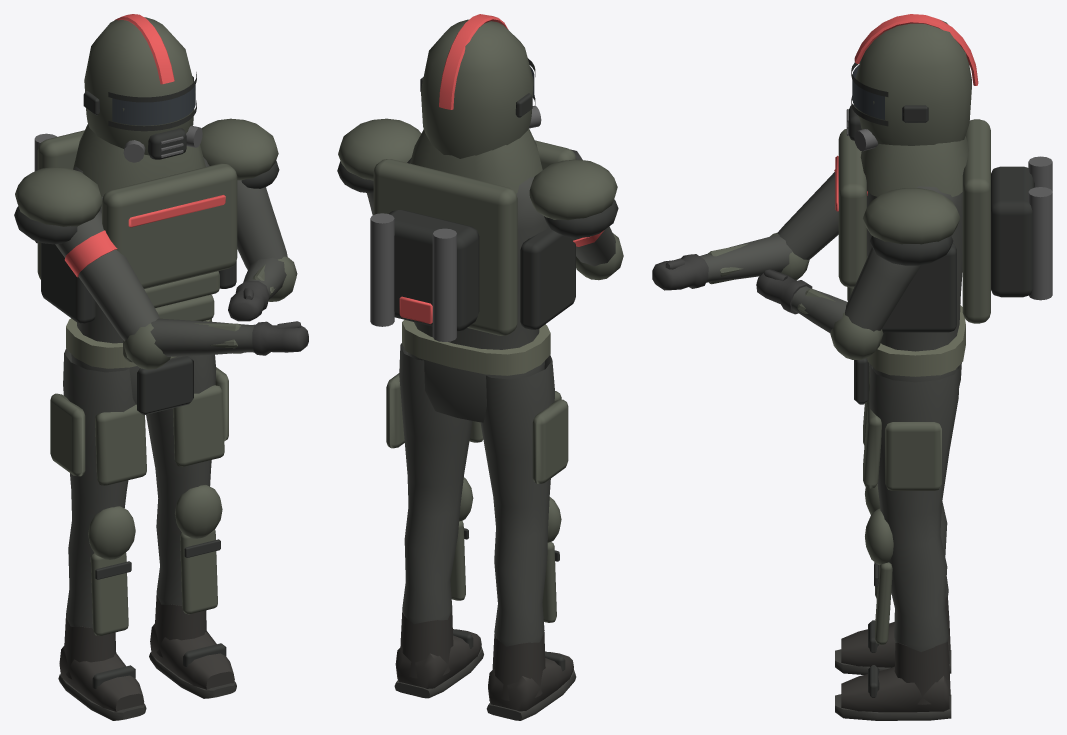
The model's file is heavy.glb.
3 renders of one model, left to right at view 1: azimuth 30°, elevation 25°; view 2: azimuth 150°, elevation 25°; view 3: azimuth 270°, elevation 25°, orthographic.
Parts seen in each view (by area): view 1: body, legL, legR; view 2: body, legL, legR; view 3: body, legR, legL.
Boxes of the visible parts, box(x1,y1,x2,y2) form: body: box(14, 14, 308, 415); legL: box(50, 348, 146, 720); legR: box(146, 354, 236, 698); body: box(337, 14, 623, 422); legL: box(480, 355, 576, 720); legR: box(386, 343, 483, 698); body: box(652, 14, 1052, 404); legR: box(835, 365, 959, 720); legL: box(835, 366, 951, 674).
Bounding box in the file's own units: 0.7943 × 1.96 × 1.06.
